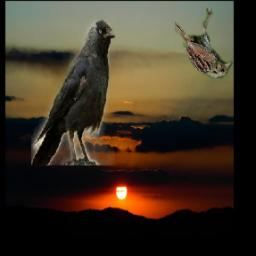Crow: (31, 20, 115, 165)
Sparrow: (174, 9, 232, 79)
